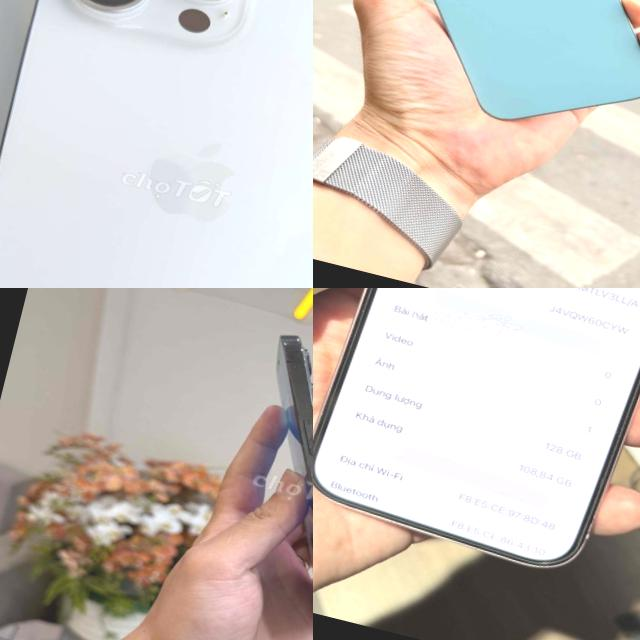gen_12_13: (198, 322, 313, 640)
gen_15: (313, 288, 640, 591), (0, 0, 313, 288)
gen_16: (432, 0, 640, 118)
